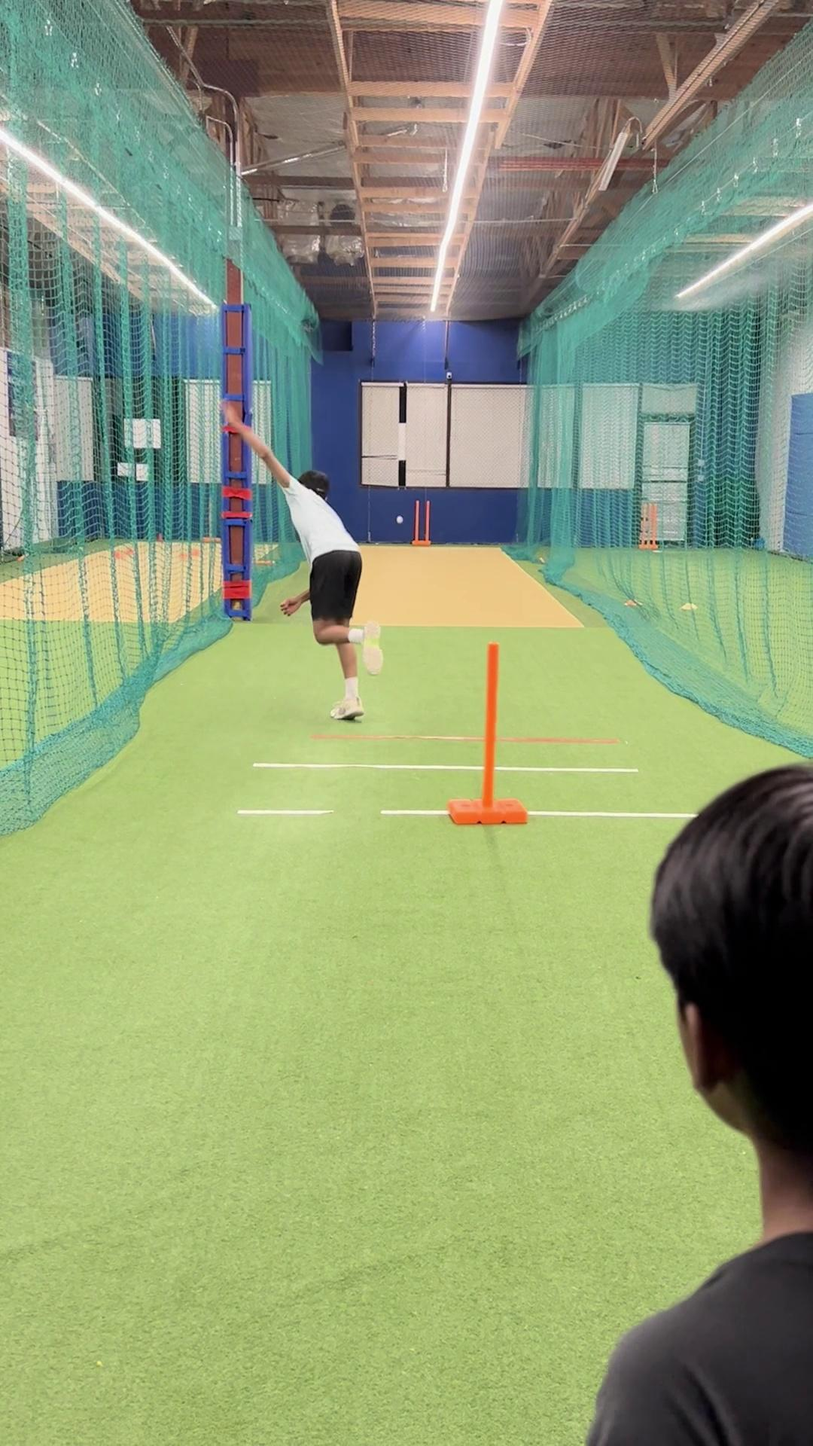ball: (393, 513, 408, 527)
